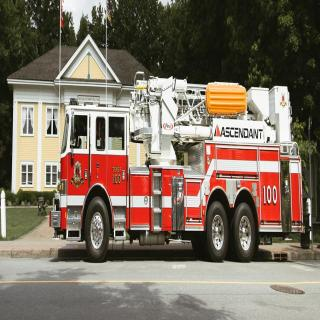Fire_truck: (49, 70, 305, 262)
